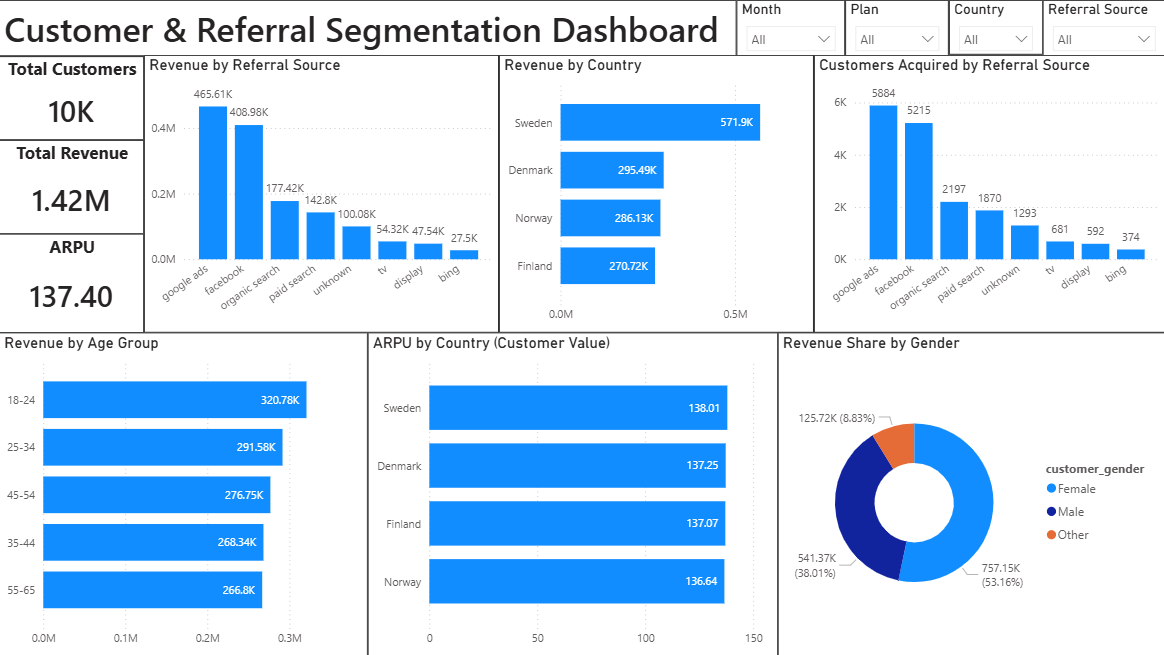

The page's visual inventory and layout, read from the dashboard file:
{"tool":"powerbi","page":{"name":"Customer & Referral Segmentation","canvas":[1280,720],"ordinal":2},"visuals":[{"type":"textbox","box":[0,0,809.6,61.7],"z":0},{"type":"donutChart","title":"Revenue Share by Gender","fields":{"Y":["FactSubPeriods.Total Revenue"],"Category":["DimCustomer.customer_gender"]},"box":[854.9,365,425.4,355.4],"z":1000},{"type":"slicer","title":"Plan","fields":{"Values":["DimPlan.subscription_type"]},"box":[929,0,113.9,61.7],"z":2000},{"type":"slicer","title":"Country","fields":{"Values":["DimCustomer.customer_country"]},"box":[1042.9,0,102.9,60.4],"z":3000},{"type":"slicer","title":"Referral Source","fields":{"Values":["DimReferral.referral_type"]},"box":[1145.8,0,134.5,61.7],"z":4000},{"type":"slicer","title":"Month","fields":{"Values":["DimDate.month_start"]},"box":[809.6,0,119.4,61.7],"z":5000},{"type":"cardVisual","title":"Total Revenue","fields":{"Data":["FactSubPeriods.Total Revenue"]},"box":[0,153.7,159.2,102.9],"z":6000},{"type":"cardVisual","title":"ARPU","fields":{"Data":["FactSubPeriods.ARPU"]},"box":[0,256.6,159.2,108.4],"z":7000},{"type":"cardVisual","title":"Total Customers","fields":{"Data":["FactSubPeriods.Total Subscribers"]},"box":[0,61.7,159.2,91.9],"z":8000},{"type":"clusteredBarChart","title":"Revenue by Country","fields":{"Y":["FactSubPeriods.Total Revenue"],"Category":["DimCustomer.customer_country"]},"box":[548.9,60.4,345.8,304.6],"z":9000},{"type":"clusteredColumnChart","title":"Revenue by Referral Source","fields":{"Category":["RevenueBySeg.referral_type"],"Y":["Sum(RevenueBySeg.revenue)"]},"box":[159.2,60.4,389.7,304.6],"z":10000},{"type":"clusteredColumnChart","title":"Customers Acquired by Referral Source","fields":{"Category":["RevenueBySeg.referral_type"],"Y":["Sum(RevenueBySeg.customers)"]},"box":[894.7,60.4,385.6,304.6],"z":11000},{"type":"clusteredBarChart","title":"Revenue by Age Group","fields":{"Y":["FactSubPeriods.Total Revenue"],"Category":["DimCustomer.age_group"]},"box":[0,365,404.8,355.4],"z":12000},{"type":"clusteredBarChart","title":"ARPU by Country (Customer Value)","fields":{"Category":["DimCustomer.customer_country"],"Y":["FactSubPeriods.ARPU"]},"box":[404.8,365,450.1,355.4],"z":13000}]}

Visuals, with their boxes in screenshot pixels (x1, y1, x2, y2), scaled from the page's 1280x720 canvas onto the 1164x655 screenshot:
textbox: (0,0,736,56)
"Revenue Share by Gender" donutChart: (777,332,1163,654)
"Plan" slicer: (845,0,948,56)
"Country" slicer: (948,0,1042,55)
"Referral Source" slicer: (1042,0,1163,56)
"Month" slicer: (736,0,845,56)
"Total Revenue" cardVisual: (0,140,145,233)
"ARPU" cardVisual: (0,233,145,332)
"Total Customers" cardVisual: (0,56,145,140)
"Revenue by Country" clusteredBarChart: (499,55,814,332)
"Revenue by Referral Source" clusteredColumnChart: (145,55,499,332)
"Customers Acquired by Referral Source" clusteredColumnChart: (814,55,1163,332)
"Revenue by Age Group" clusteredBarChart: (0,332,368,654)
"ARPU by Country (Customer Value)" clusteredBarChart: (368,332,777,654)
